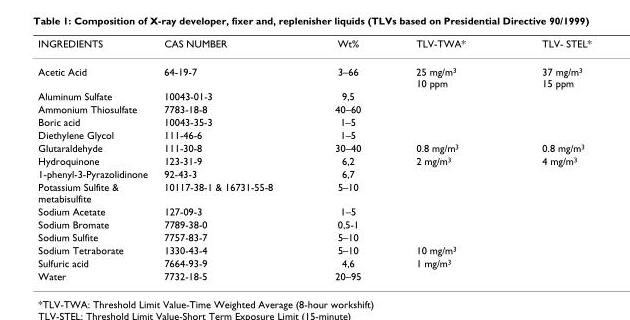table: (37, 37, 590, 281)
table column: (155, 37, 303, 281), (37, 37, 155, 281), (387, 37, 503, 281), (503, 37, 590, 281), (303, 37, 387, 281)
table column header: (37, 37, 590, 57)
table row: (37, 57, 590, 89), (37, 179, 590, 204), (37, 37, 590, 57), (37, 89, 590, 102), (37, 102, 590, 115), (37, 115, 590, 128), (37, 128, 590, 141), (37, 153, 590, 166), (37, 166, 590, 179), (37, 204, 590, 217), (37, 217, 590, 230), (37, 230, 590, 243), (37, 243, 590, 256), (37, 256, 590, 269), (37, 141, 590, 153), (37, 269, 590, 281)
